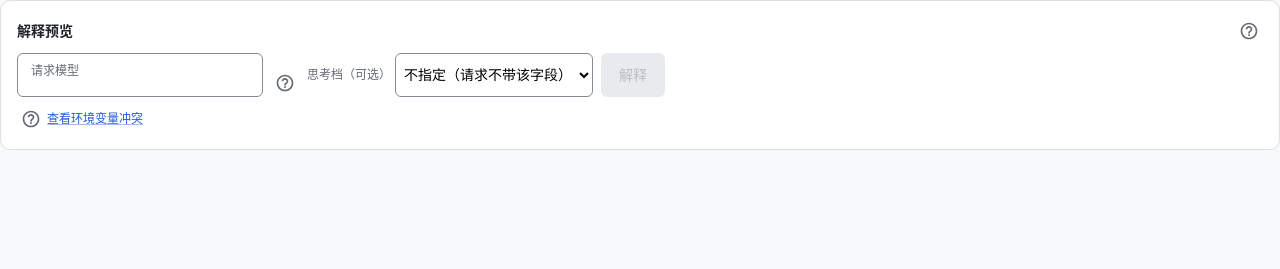
Test case: RouteExplainPanel（UC-096） › 拒绝短句保留完整拒绝说明 title（UC-096 W5d）
Type "missing-entry" into the field labelled "请求模型" at coordinates (140, 75), box [17,56,263,94]
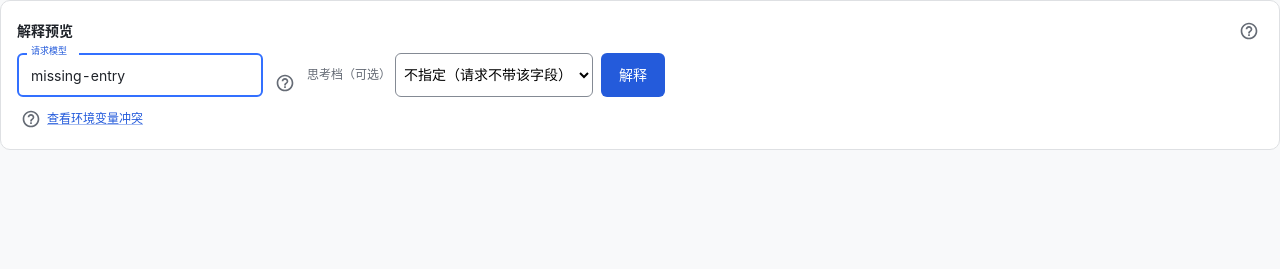
Click the button "解释" at coordinates (633, 75), box [601,53,665,97]
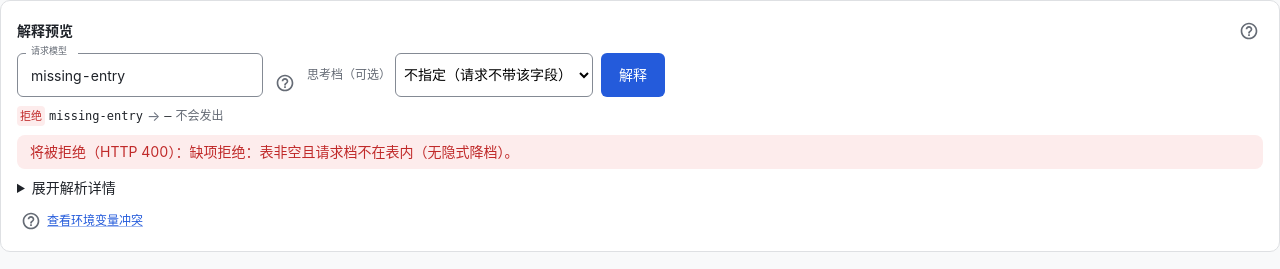
Check: the text "将被拒绝（HTTP 400）：缺项拒绝：表非空且请求档不在表内（无隐式降档）。" is shown, box [30,143,518,160]
